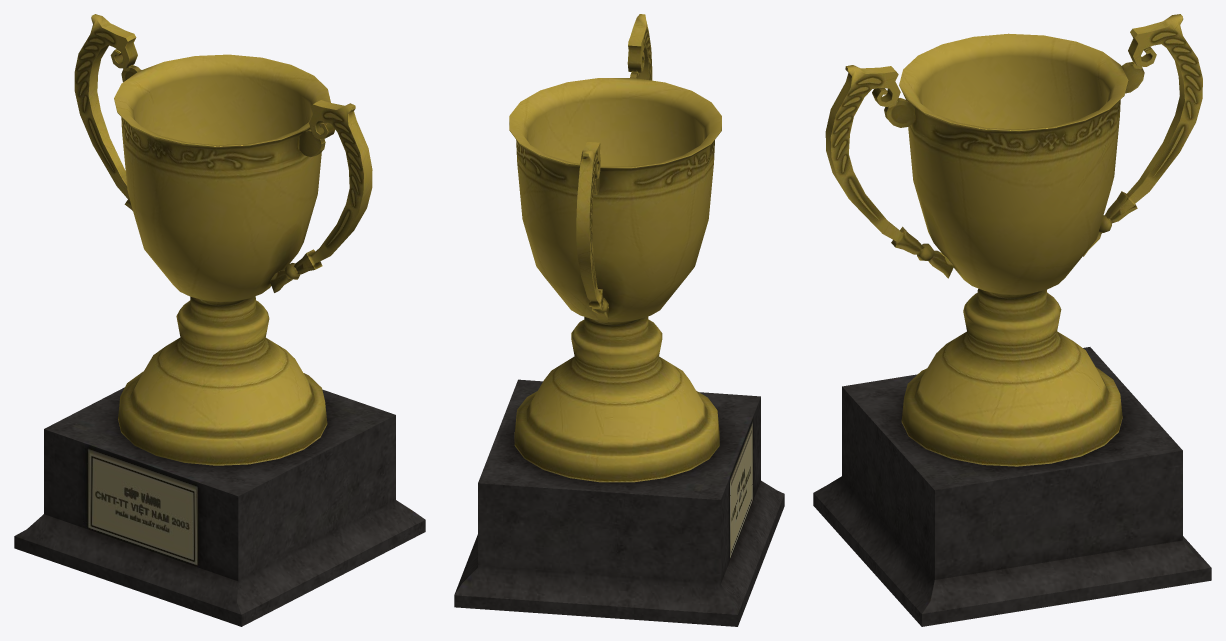
Rendered from cup_CNTT.glb.
3 views of the same model, side by side, from view 1: azimuth 30°, elevation 25°; view 2: azimuth 150°, elevation 25°; view 3: azimuth 270°, elevation 25° (orthographic). The views are drawn at different scales.
Visible parts, largest first — view 1: cup_CNTT; view 2: cup_CNTT; view 3: cup_CNTT.
Boxes of the visible parts, x1,y1,x2,y2 form: cup_CNTT: [14, 14, 425, 626]; cup_CNTT: [454, 14, 784, 626]; cup_CNTT: [813, 14, 1211, 626].
Size of the model in its own units: 73.73 by 103 by 74.06.
1 material, 1 textured.
